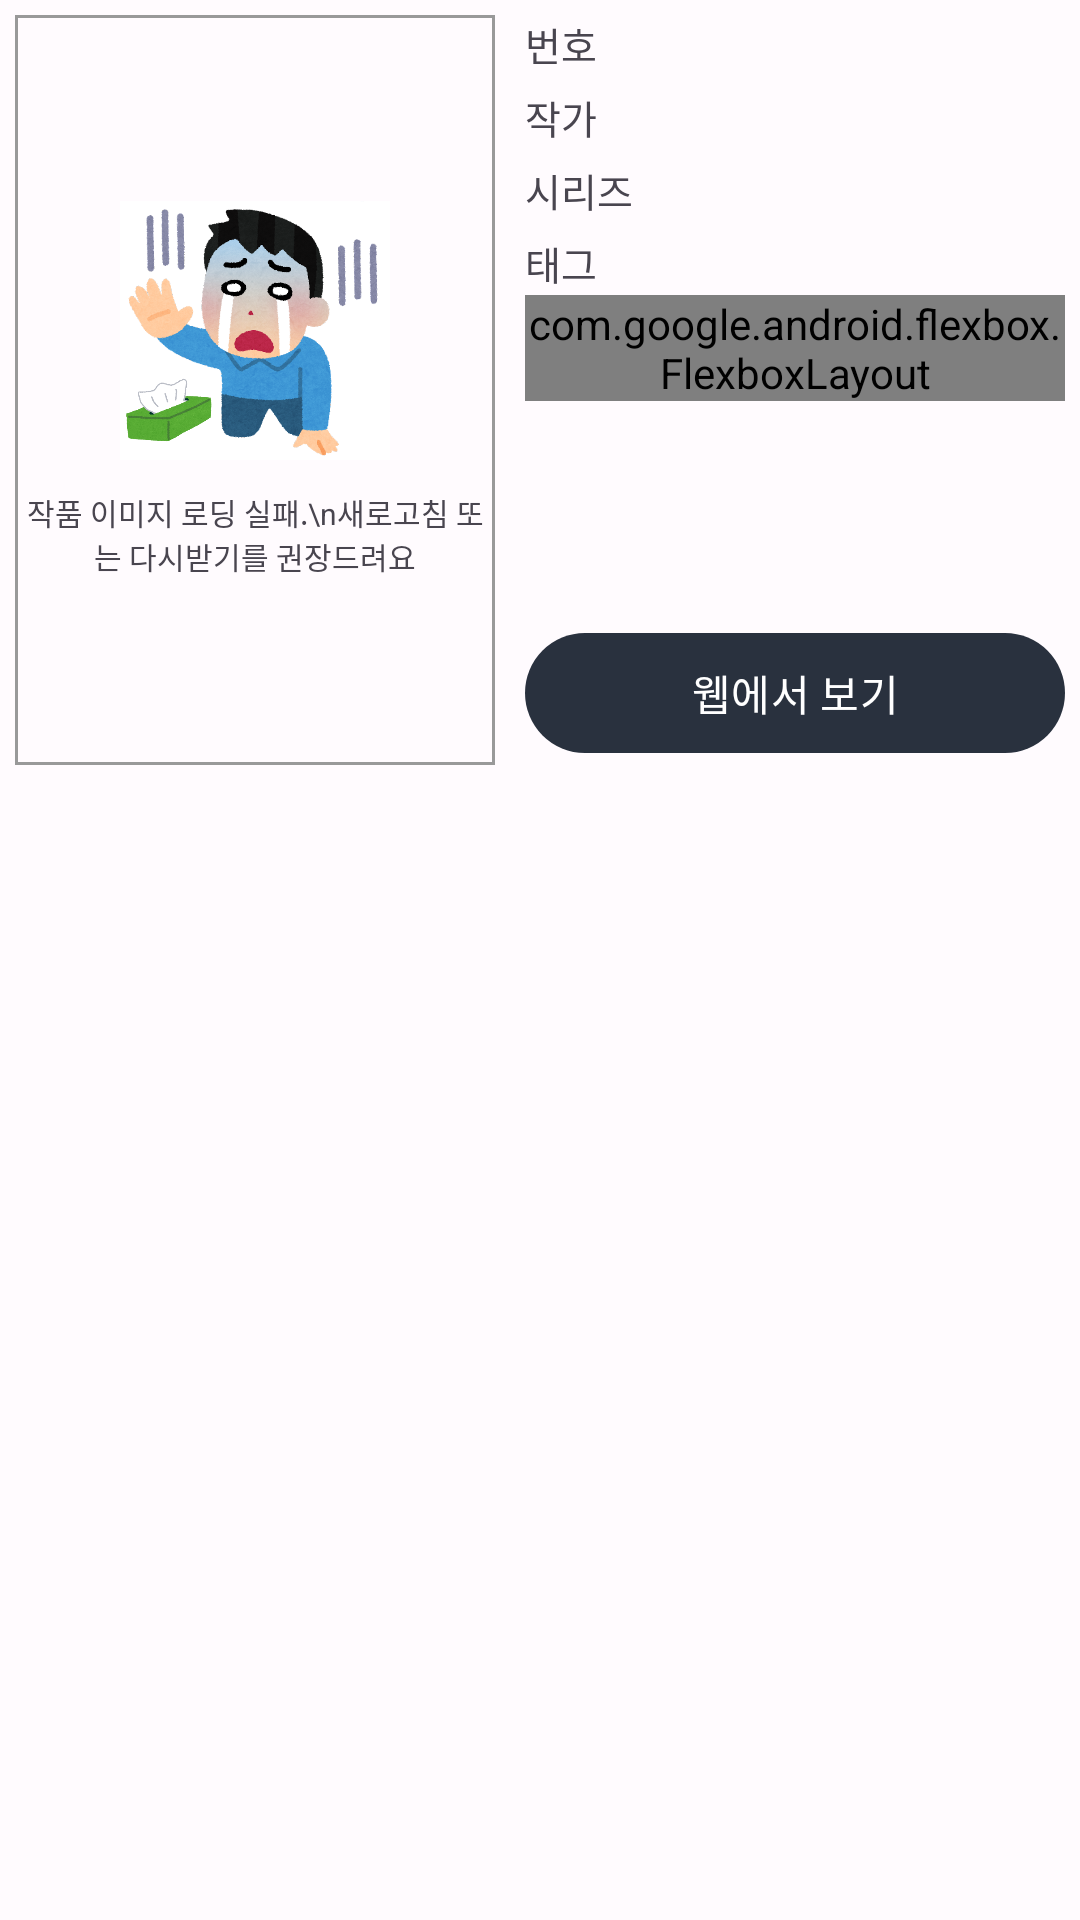

Icon click points for this 1080w x 1920h phone screenshot, format [x,y]:
shock man: [252,332]
